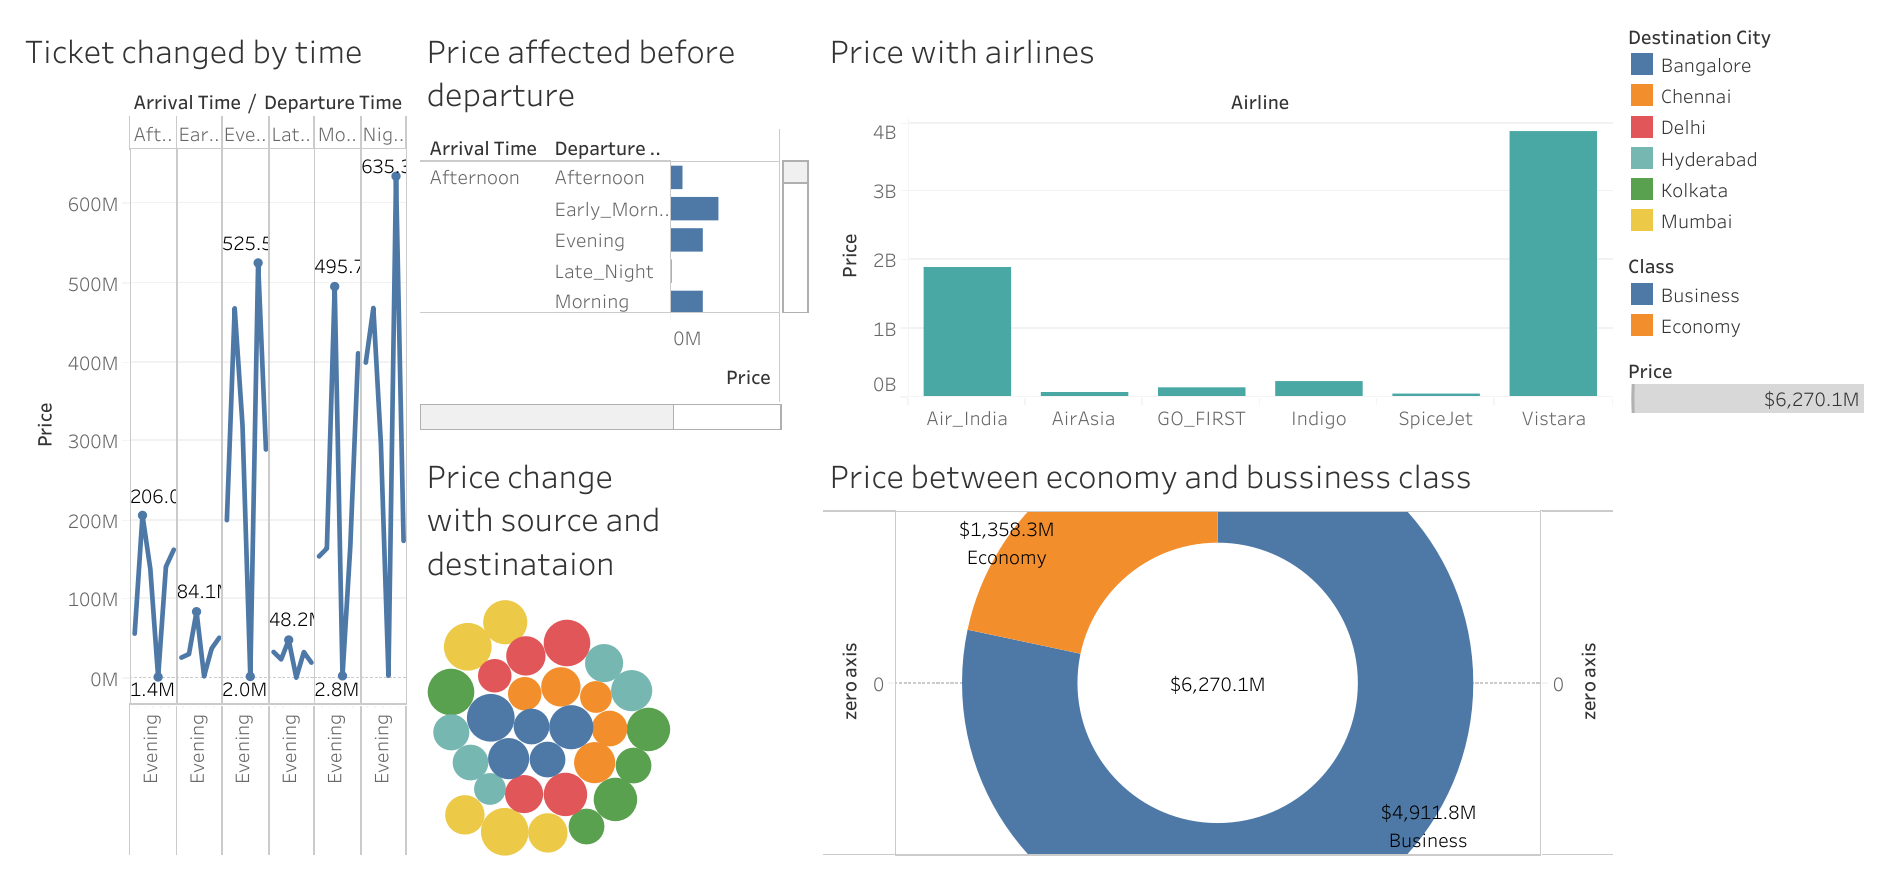

Layout of this report page (visuals, bound fields, positions):
{"tool":"tableau","page":{"name":"Dashboard 1","canvas":[1000,1000],"units":"permille","ordinal":0},"visuals":[{"type":"worksheet","title":"Ticket changed by time","mark":"Line","rows":["price"],"cols":["arrival_time","departure_time"],"box":[5.5,9.3,219.7,981.4]},{"type":"worksheet","title":"Price affected before departure","mark":"Automatic","rows":["arrival_time","departure_time"],"cols":["price"],"box":[225.2,9.3,219.7,490.7]},{"type":"worksheet","title":"Price with airlines","mark":"Automatic","rows":["price"],"cols":["airline"],"box":[444.8,9.3,439.3,490.7]},{"type":"legend","title":"Price change with source and destinataion","param":"[federated.1mmxg1a04yfy2r1957mnv01drohx].[none:destination_city:nk]","box":[884.1,9.3,110.3,181.4]},{"type":"legend","title":"Price between economy and bussiness class","param":"[federated.1mmxg1a04yfy2r1957mnv01drohx].[none:class:nk]","box":[884.1,190.7,110.3,83.7]},{"type":"legend","title":"Price between economy and bussiness class","param":"[federated.1mmxg1a04yfy2r1957mnv01drohx].[sum:price:qk]","box":[884.1,274.4,110.3,59.3]},{"type":"worksheet","title":"Price change with source and destinataion","mark":"Circle","box":[225.2,500,219.7,490.7]},{"type":"worksheet","title":"Price between economy and bussiness class","mark":"Pie","rows":["Calculation_2116128877092007937","Calculation_2116128877092007937"],"box":[444.8,500,439.3,490.7]}]}

Visuals, with their boxes on the dashboard's canvas, which has no fixed pixel size, in thousandths of its width and height (x1, y1, x2, y2). These are canvas units, not pixel positions in the 1881x873 screenshot, which may show the page scaled, cropped or inside an application window:
"Ticket changed by time" worksheet (Line marks): 6, 9, 225, 991
"Price affected before departure" worksheet: 225, 9, 445, 500
"Price with airlines" worksheet: 445, 9, 884, 500
"Price change with source and destinataion" legend: 884, 9, 994, 191
"Price between economy and bussiness class" legend: 884, 191, 994, 274
"Price between economy and bussiness class" legend: 884, 274, 994, 334
"Price change with source and destinataion" worksheet (Circle marks): 225, 500, 445, 991
"Price between economy and bussiness class" worksheet (Pie marks): 445, 500, 884, 991
